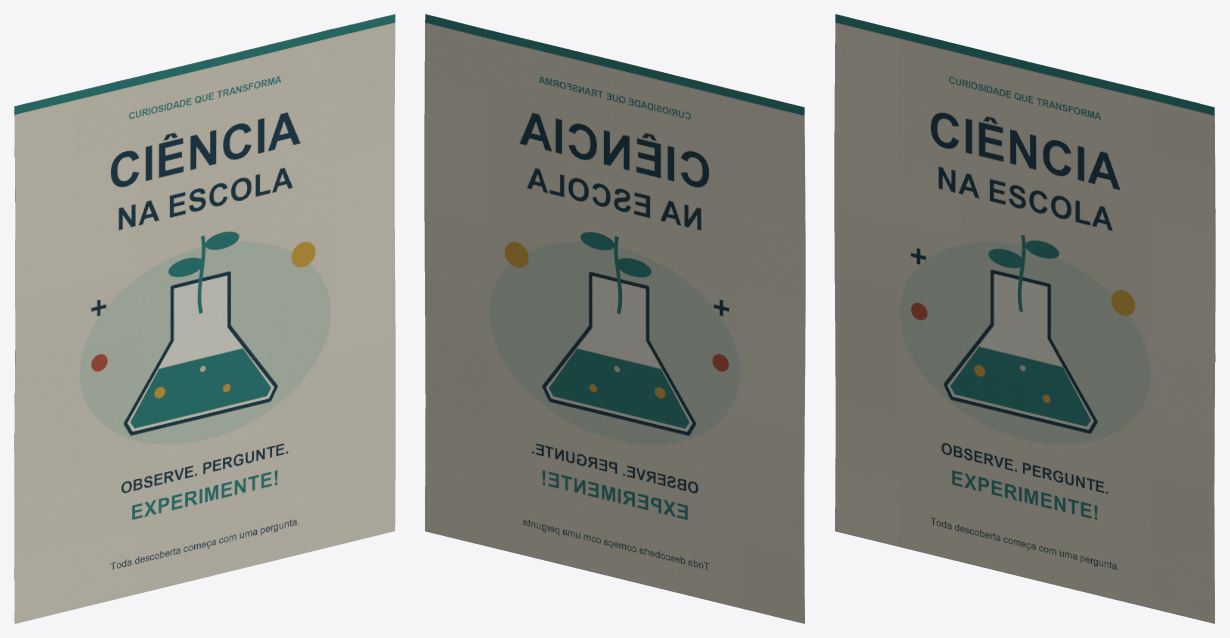
Rendered from cartaz_corredor_2_realista.glb.
The picture shows the model from 3 angles, left to right: view 1: azimuth 30°, elevation 25°; view 2: azimuth 150°, elevation 25°; view 3: azimuth 330°, elevation 25°; orthographic projection.
Visible parts, largest first — view 1: Cartaz_Corredor; view 2: Cartaz_Corredor; view 3: Cartaz_Corredor.
Part boxes in pixels (x1,y1,x2,y2): Cartaz_Corredor: (14, 14, 395, 623); Cartaz_Corredor: (424, 14, 805, 623); Cartaz_Corredor: (834, 14, 1215, 623).
Bounding box in the file's own units: 0.5 × 0.65 × 0.00309.
Materials: 1 (1 with a texture image).
